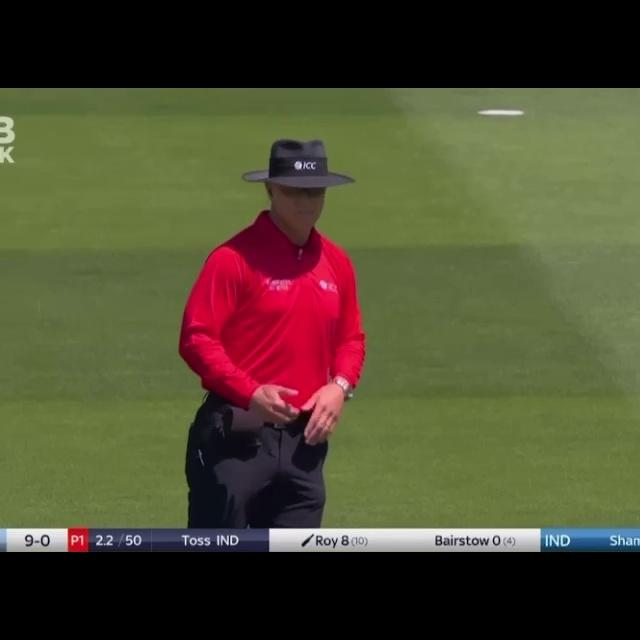umpire: (170, 121, 379, 528)
